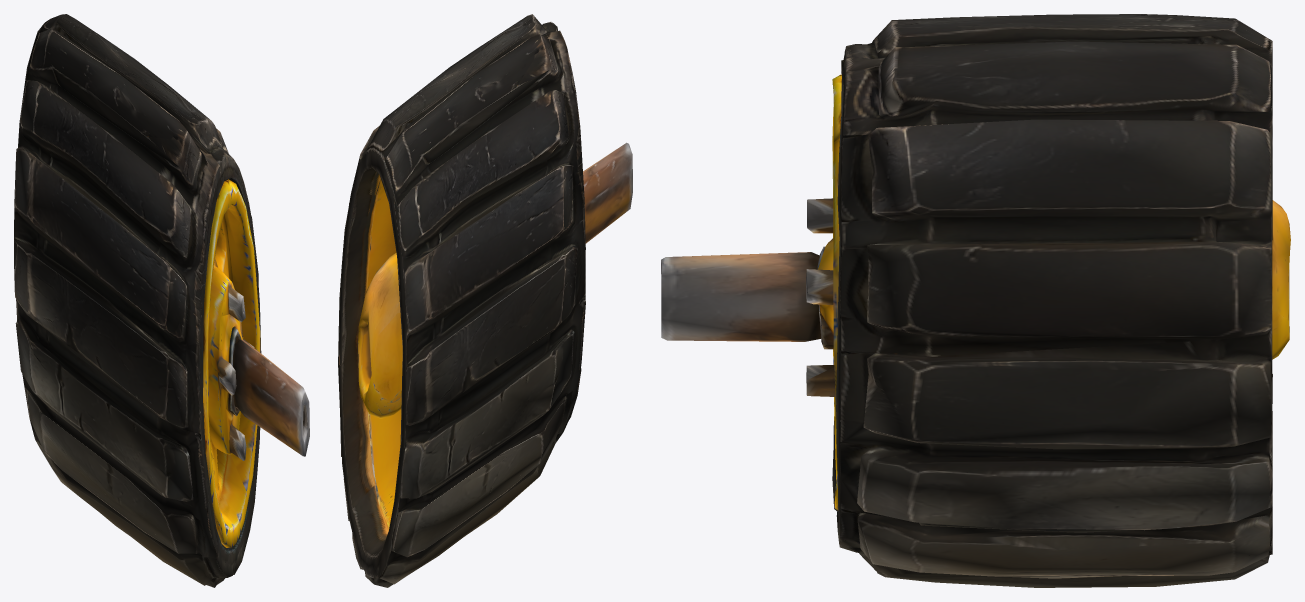
File: wheel_rubber_01.glb
The picture shows the model from 3 angles, left to right: view 1: azimuth 30°, elevation 25°; view 2: azimuth 150°, elevation 25°; view 3: azimuth 270°, elevation 25°; orthographic projection. The views are drawn at different scales.
Visible parts, largest first — view 1: wheel_rubber_01; view 2: wheel_rubber_01; view 3: wheel_rubber_01.
Boxes of the visible parts, x1=… form: wheel_rubber_01: x1=14, y1=14, x2=309, y2=587; wheel_rubber_01: x1=338, y1=14, x2=632, y2=587; wheel_rubber_01: x1=661, y1=14, x2=1290, y2=587.
Bounding box in the file's own units: 0.4012 × 2.4 × 2.4.
1 material, 1 textured.
